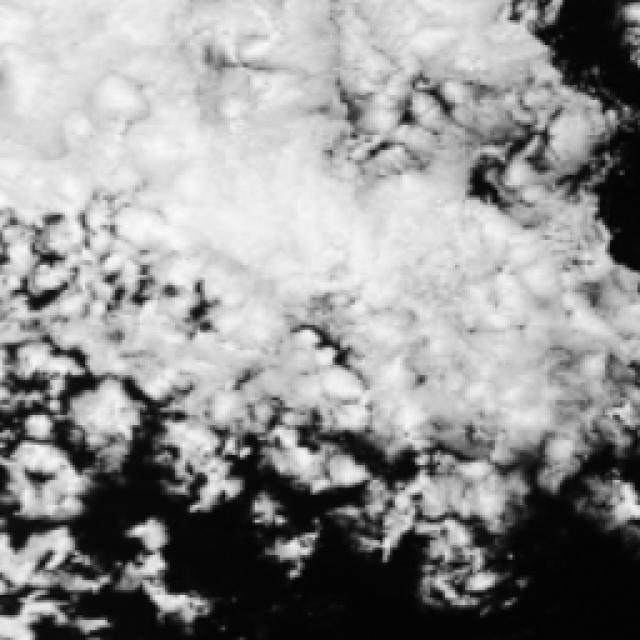CB: (0, 0, 201, 199), (172, 106, 353, 294)
